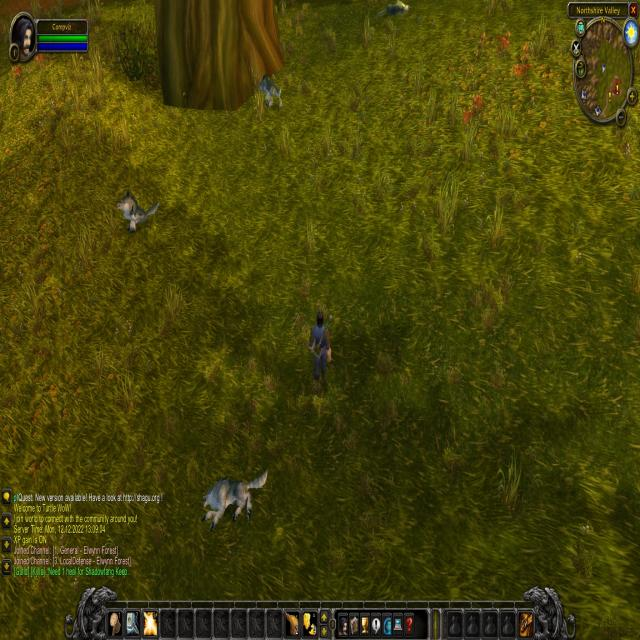wolf: (198, 459, 274, 536), (112, 185, 163, 236), (256, 68, 285, 114), (373, 0, 412, 23)
